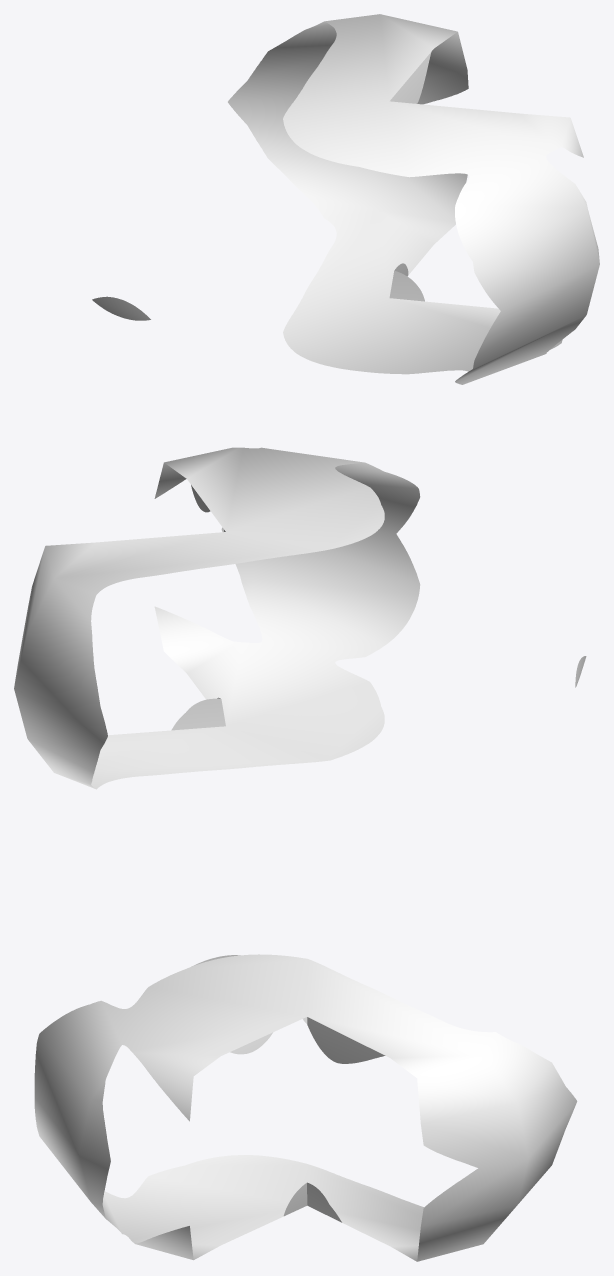
Rendered from Cheese.fbx.
3 renders of one model, top to bottom at view 1: azimuth 30°, elevation 25°; view 2: azimuth 150°, elevation 25°; view 3: azimuth 270°, elevation 25°, orthographic. The views are drawn at different scales.
Parts seen in each view (by area): view 1: Cheese; view 2: Cheese; view 3: Cheese.
Part boxes in pixels (box(x1,y1,x2,y2)): Cheese: box(92, 14, 599, 384); Cheese: box(14, 447, 586, 789); Cheese: box(34, 954, 577, 1261).
Bounding box in the file's own units: 68.89 × 28.68 × 74.22.
